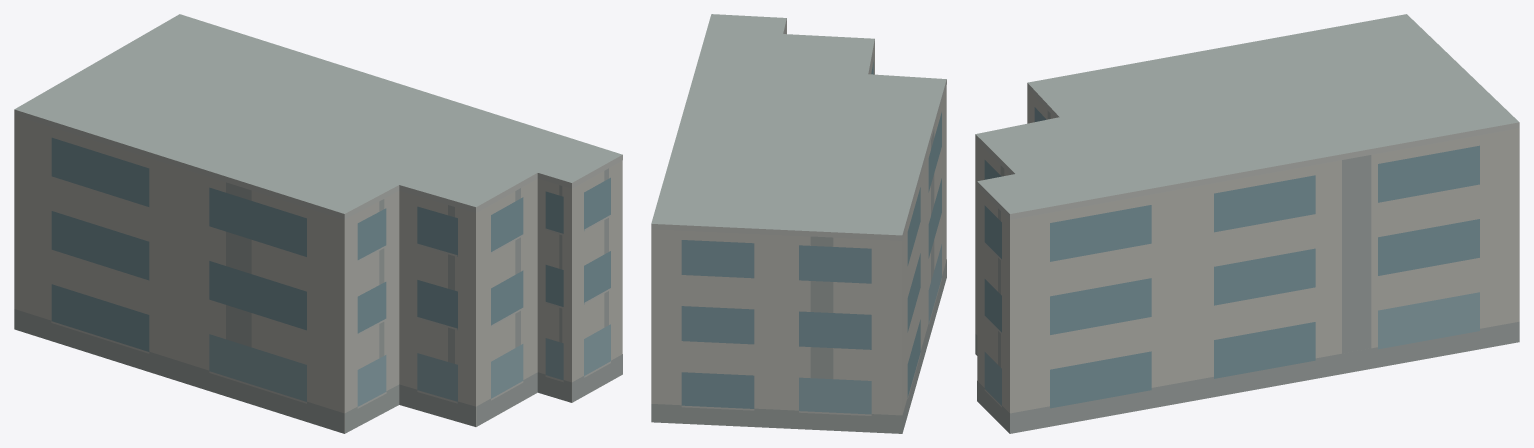
Rendered from survey-upis-32553671.glb.
3 renders of one model, left to right at view 1: azimuth 30°, elevation 25°; view 2: azimuth 150°, elevation 25°; view 3: azimuth 270°, elevation 25°, orthographic. The views are drawn at different scales.
Visible parts, largest first — view 1: survey-upis-32553671.tmp; view 2: survey-upis-32553671.tmp; view 3: survey-upis-32553671.tmp.
Boxes of the visible parts, box(x1,y1,x2,y2) form: survey-upis-32553671.tmp: box(14, 14, 622, 433); survey-upis-32553671.tmp: box(651, 14, 946, 433); survey-upis-32553671.tmp: box(975, 14, 1519, 433).
Size of the model in its own units: 17.87 by 9.15 by 20.53.
